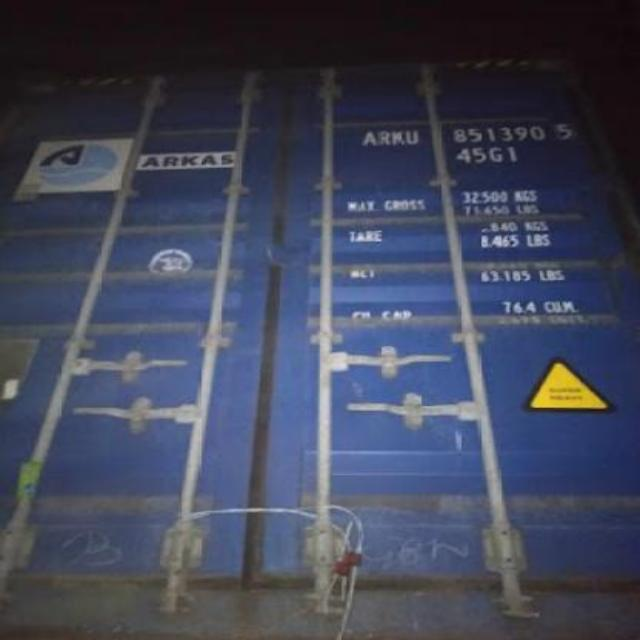0: (530, 122, 546, 144)
1: (486, 128, 498, 142)
3: (502, 124, 512, 146)
5: (466, 126, 482, 144), (556, 126, 574, 140)
8: (454, 127, 468, 143)
9: (516, 125, 526, 145)
A: (362, 129, 376, 147)
K: (392, 129, 404, 145)
R: (378, 129, 392, 147)
U: (404, 129, 418, 145)
